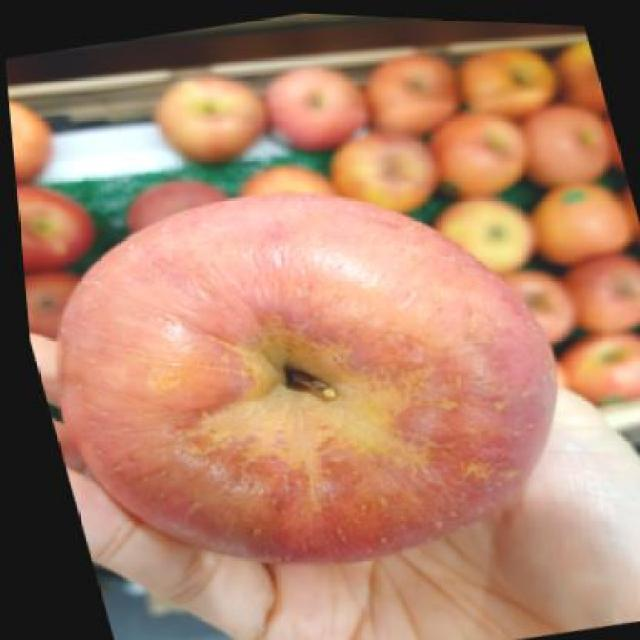Fresh Apple: (45, 192, 549, 560)
